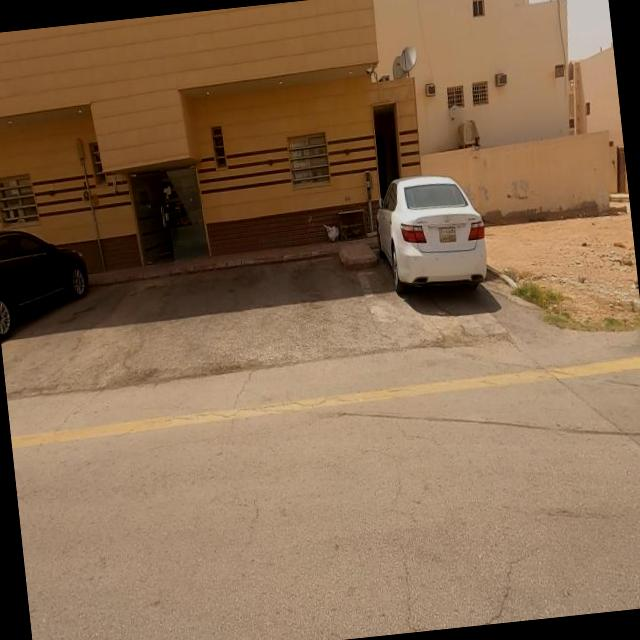debris: (290, 178, 370, 284)
